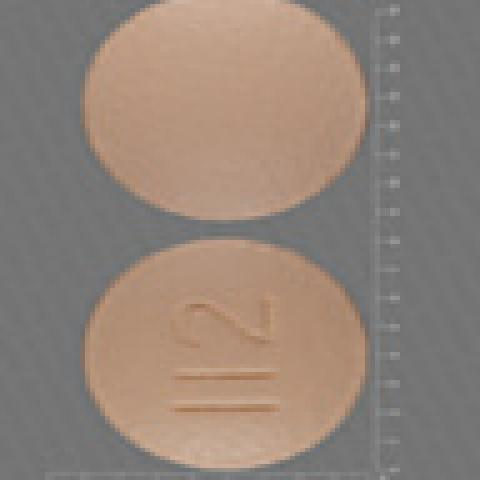Pill: (89, 234, 425, 474), (78, 0, 383, 231)
